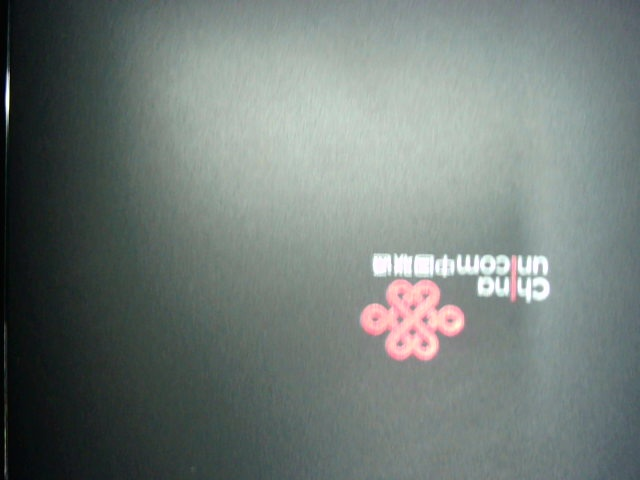AC_ChinaUnicom: (336, 239, 561, 369)
